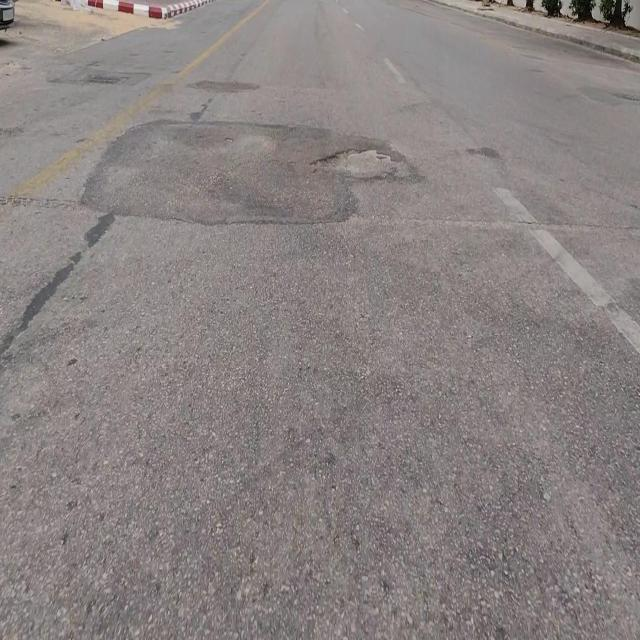Pothole: (307, 143, 411, 176)
